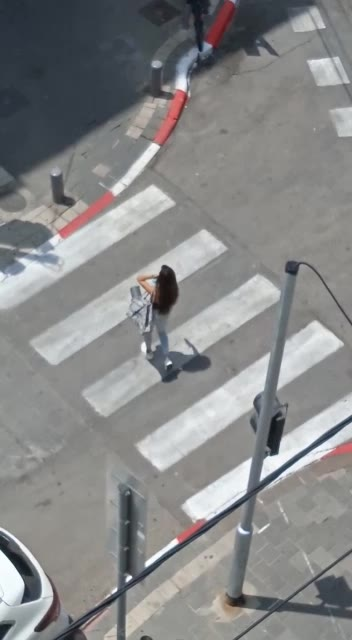crosswalk: (1, 185, 330, 519)
person: (122, 249, 189, 379)
